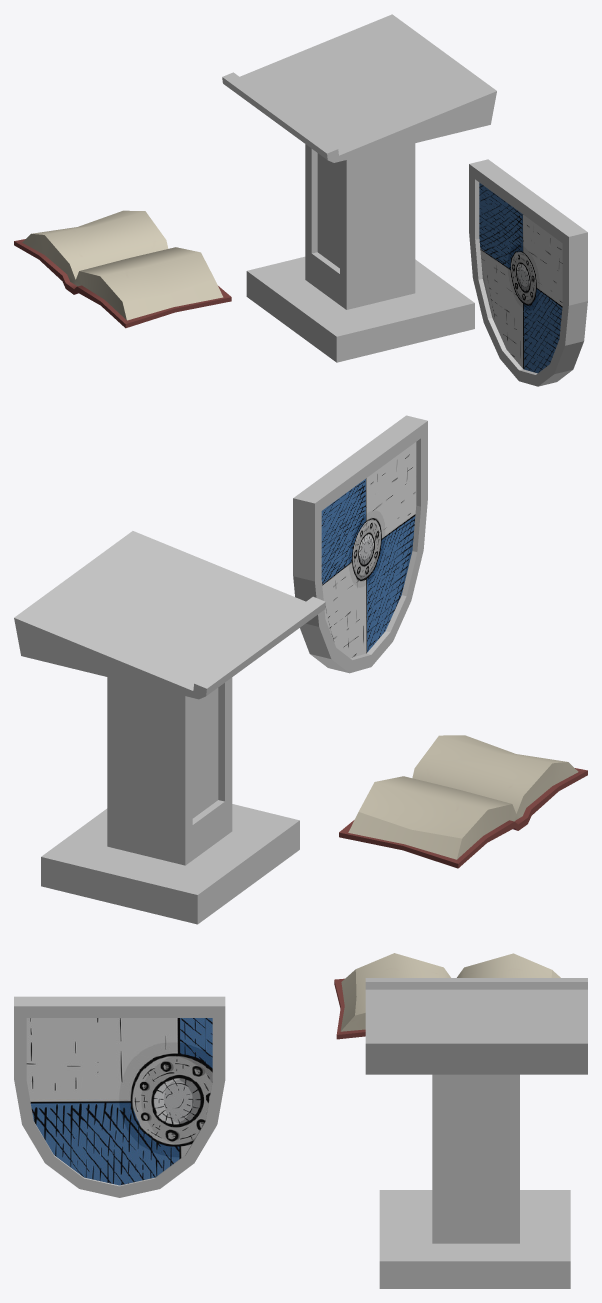
File: stuff3.fbx
The picture shows the model from 3 angles, top to bottom: view 1: azimuth 30°, elevation 25°; view 2: azimuth 150°, elevation 25°; view 3: azimuth 270°, elevation 25°; orthographic projection. The views are drawn at different scales.
Parts seen in each view (by area): view 1: BookStand, ArmorShield, book; view 2: BookStand, ArmorShield, book; view 3: BookStand, ArmorShield, book.
Boxes of the visible parts, <box> form: BookStand: <box>222,14,496,362</box>; ArmorShield: <box>469,159,587,386</box>; book: <box>14,210,231,328</box>; BookStand: <box>14,531,325,924</box>; ArmorShield: <box>293,415,427,673</box>; book: <box>339,735,587,868</box>; BookStand: <box>365,978,587,1288</box>; ArmorShield: <box>14,996,225,1197</box>; book: <box>334,953,560,1039</box>.
Size of the model in its own units: 740 by 437 by 898.
